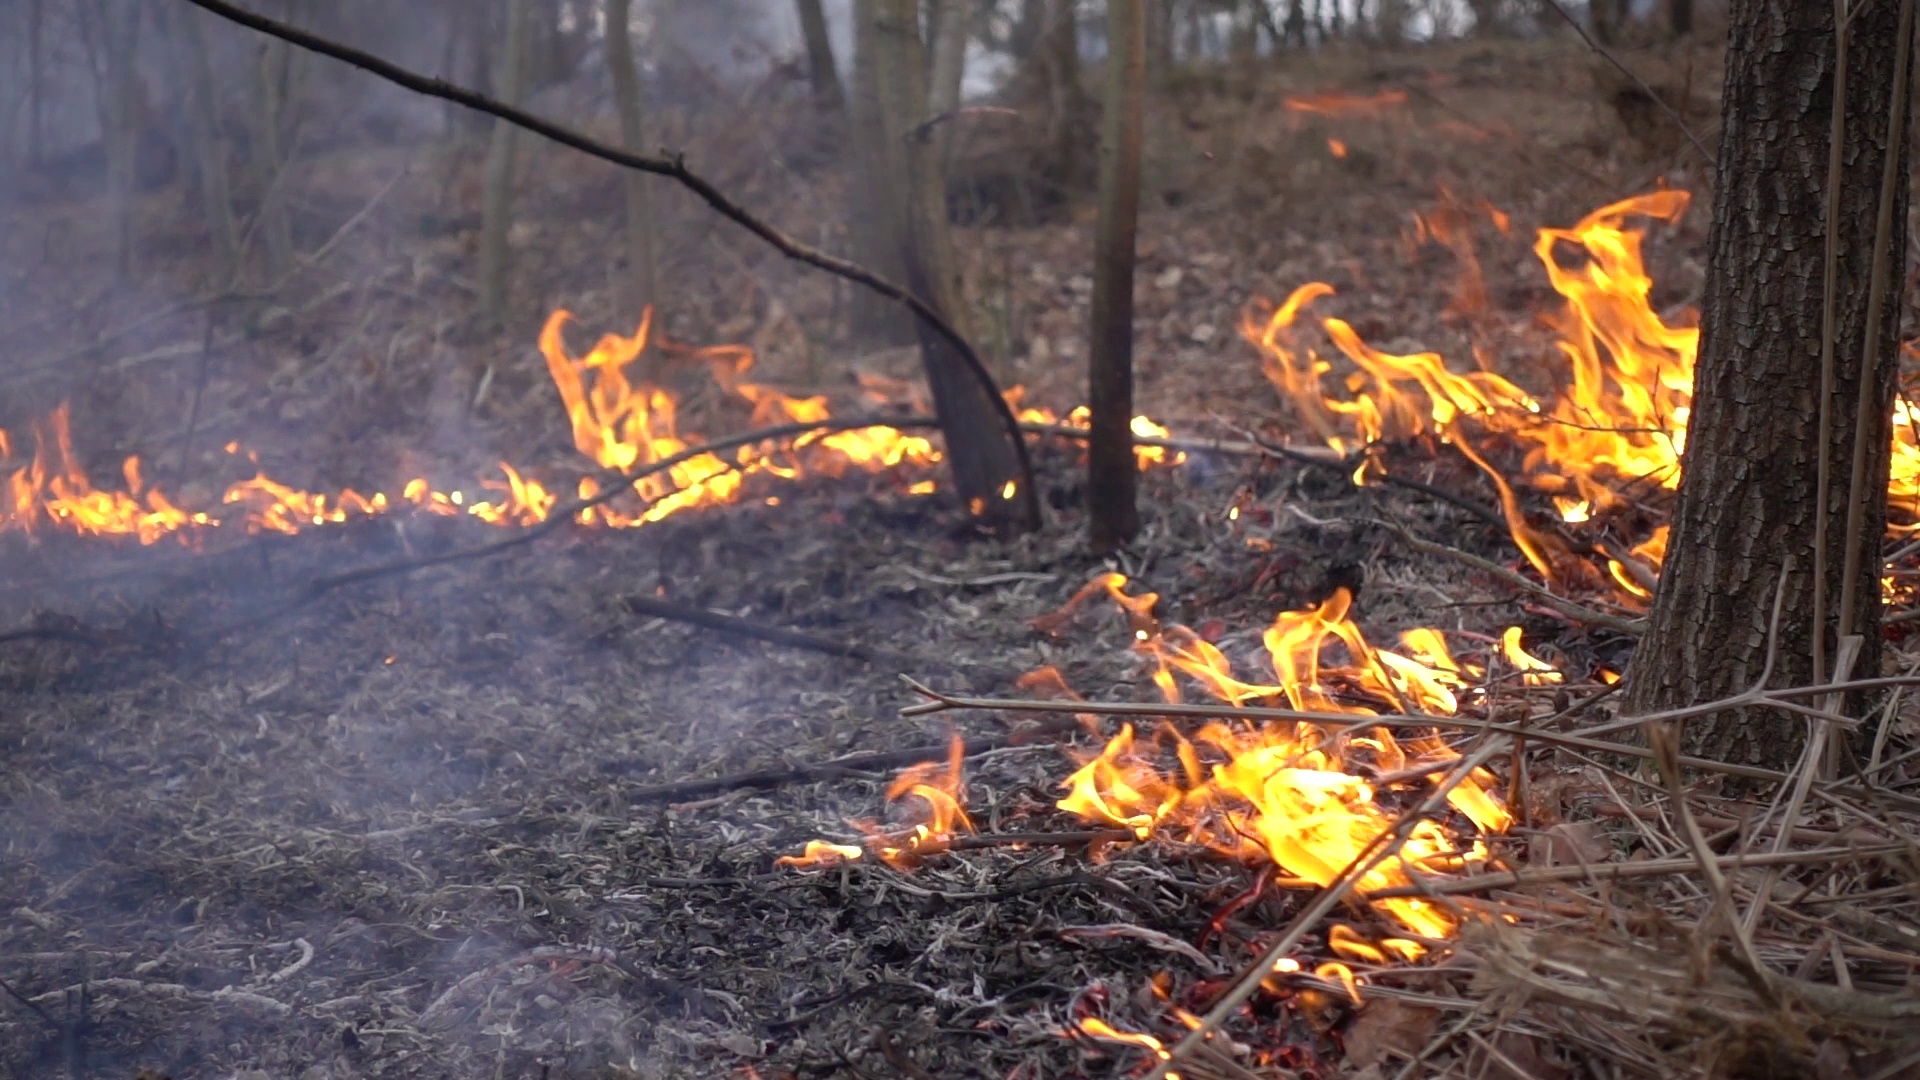fire: (1069, 600, 1514, 945), (1261, 194, 1693, 497), (541, 301, 720, 518), (738, 380, 938, 469), (11, 465, 171, 531), (876, 753, 967, 853), (236, 469, 328, 522), (1894, 398, 1920, 502)
